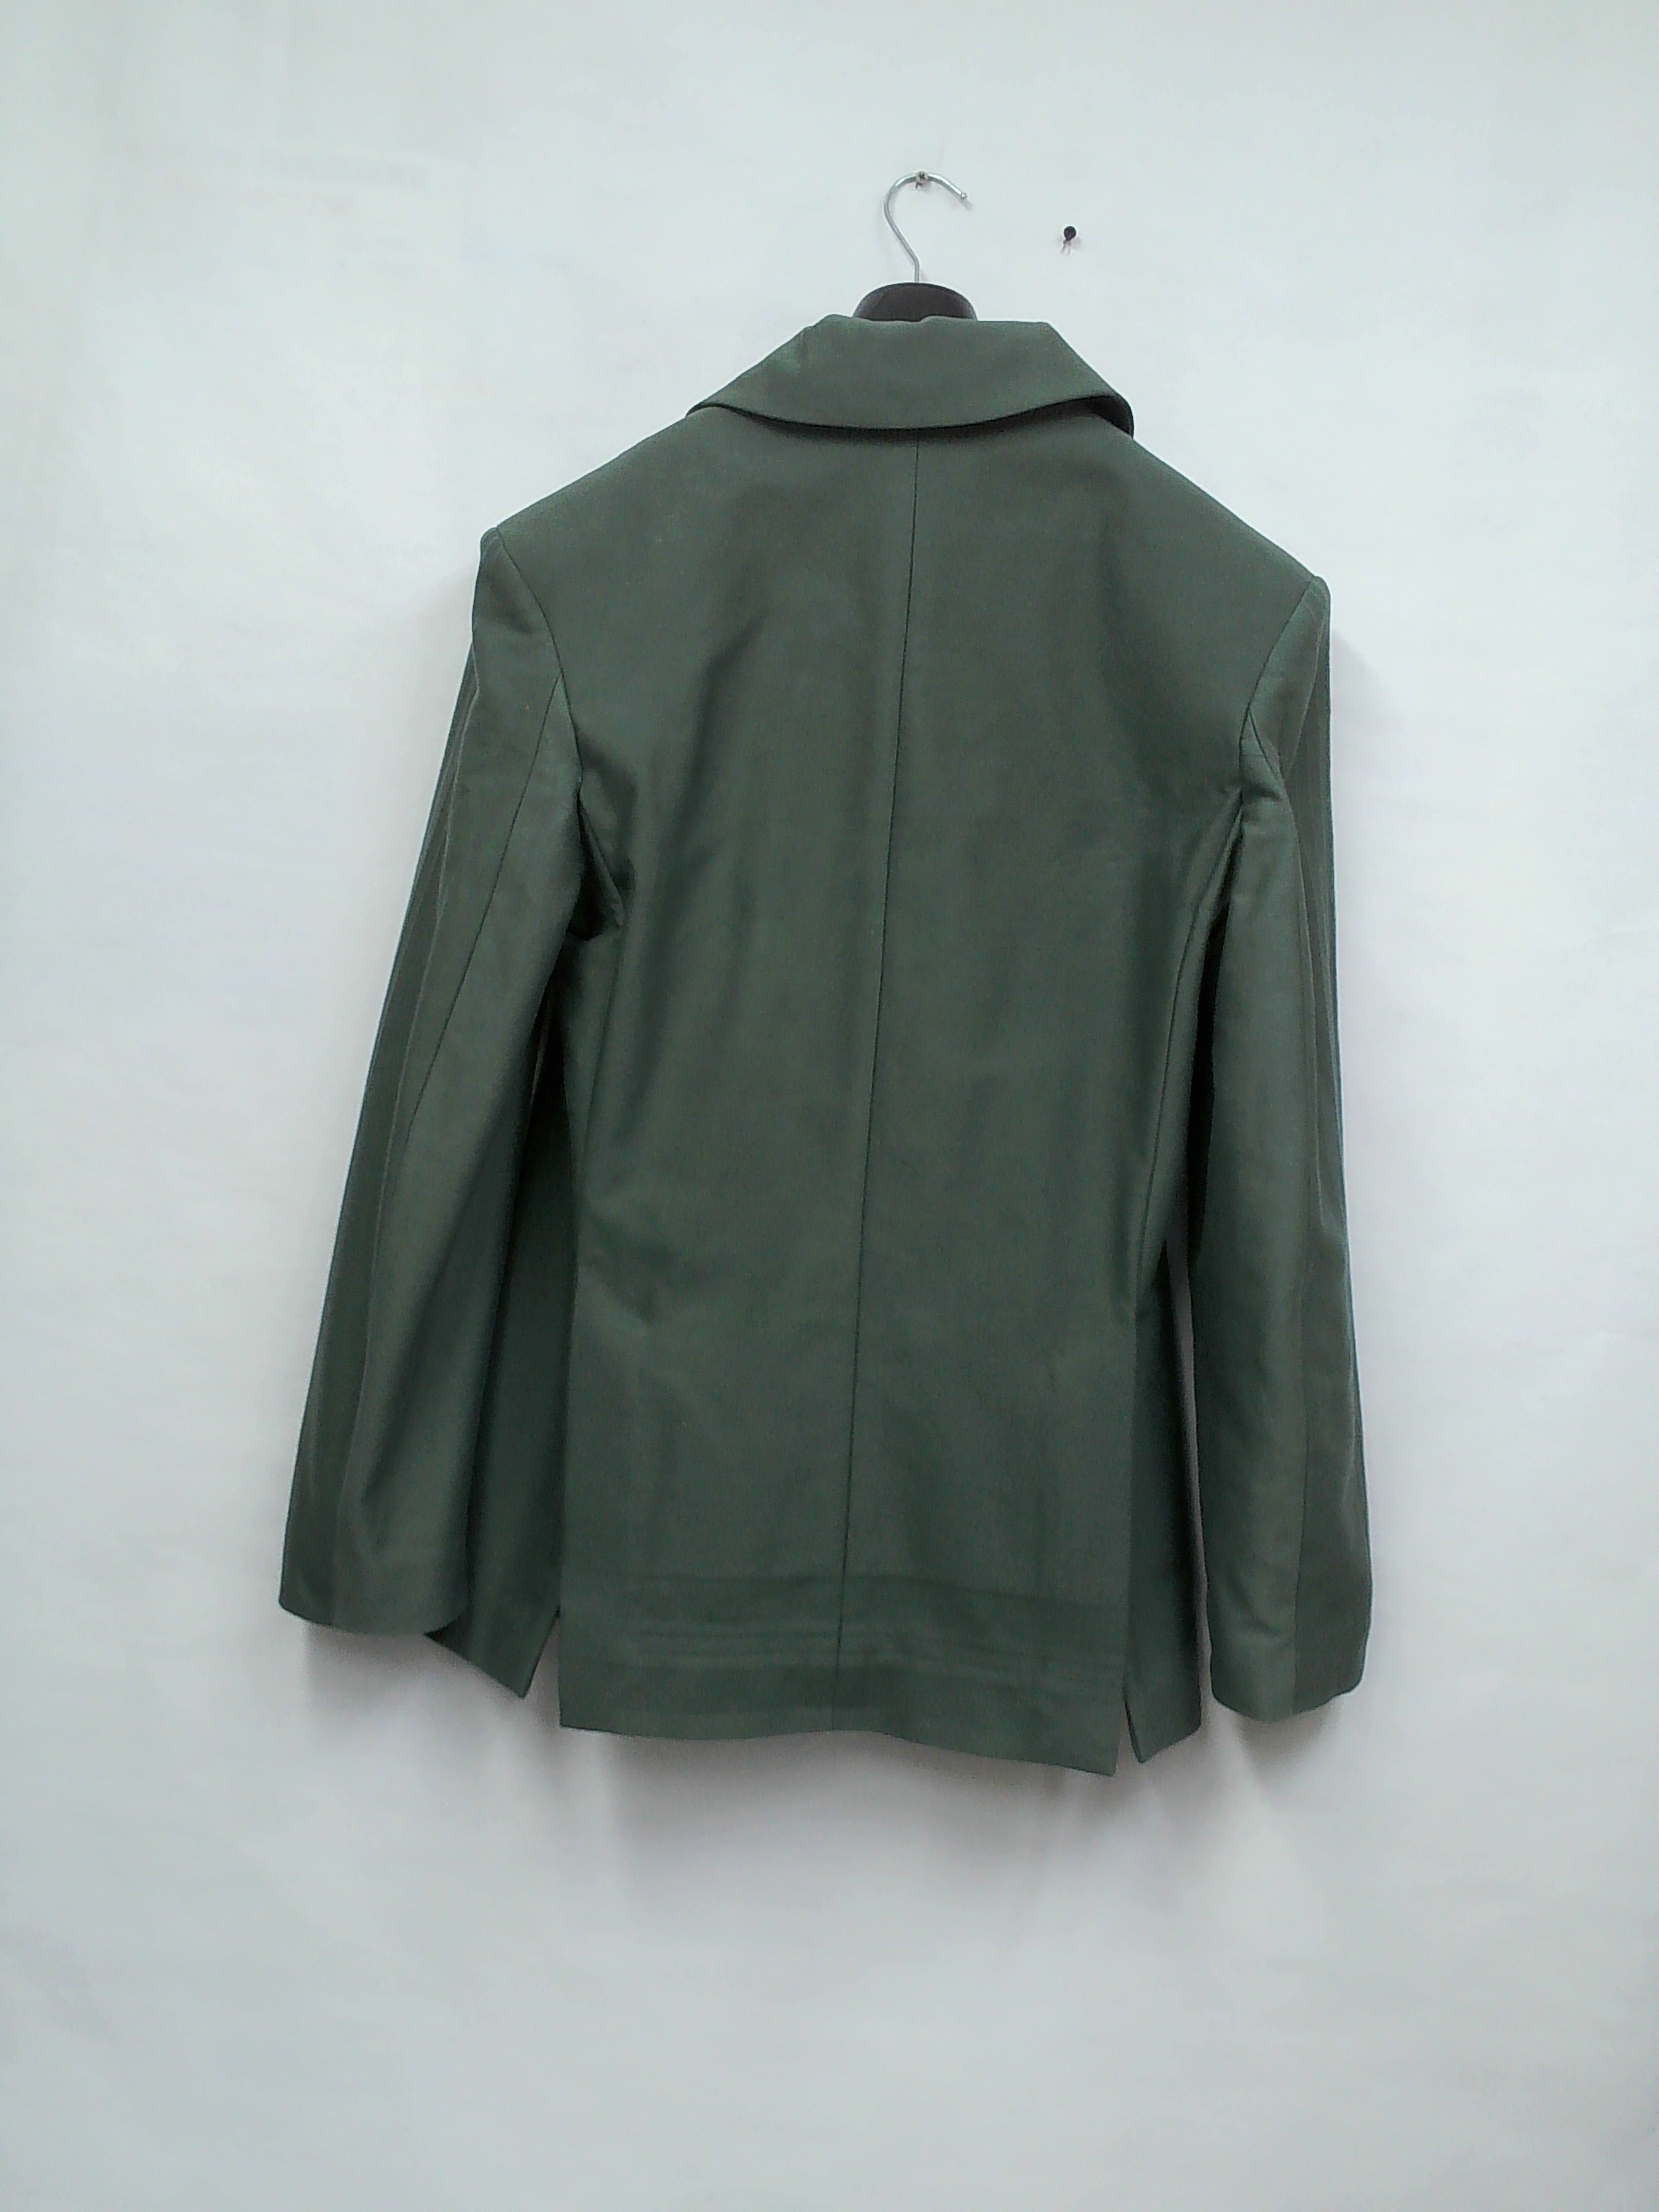seam: (1188, 730, 1324, 859)
